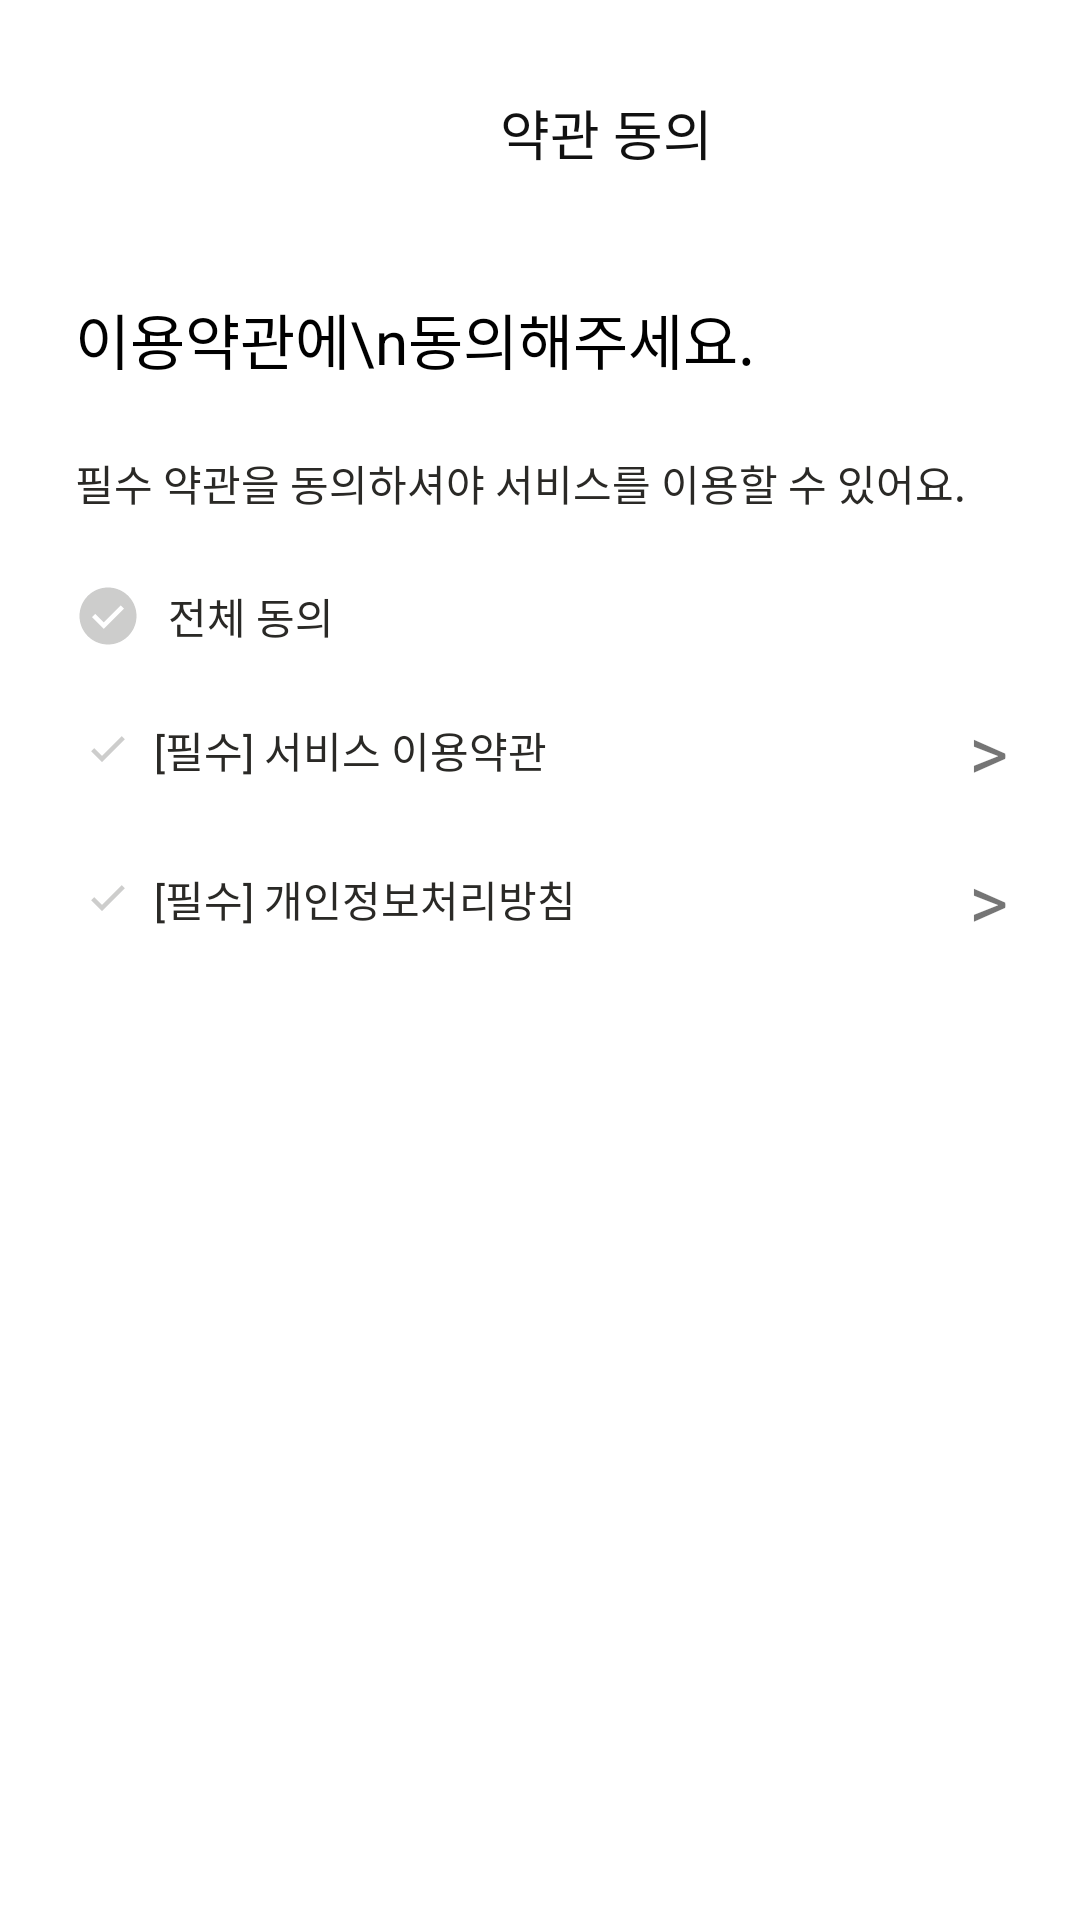

Named icons in this screenshot (1080px×1920px) and their bounding boxes, detection(x1, y1, x2, y2):
check: detection(91, 736, 125, 762), detection(91, 885, 125, 911)
check circle: detection(79, 587, 137, 645)
